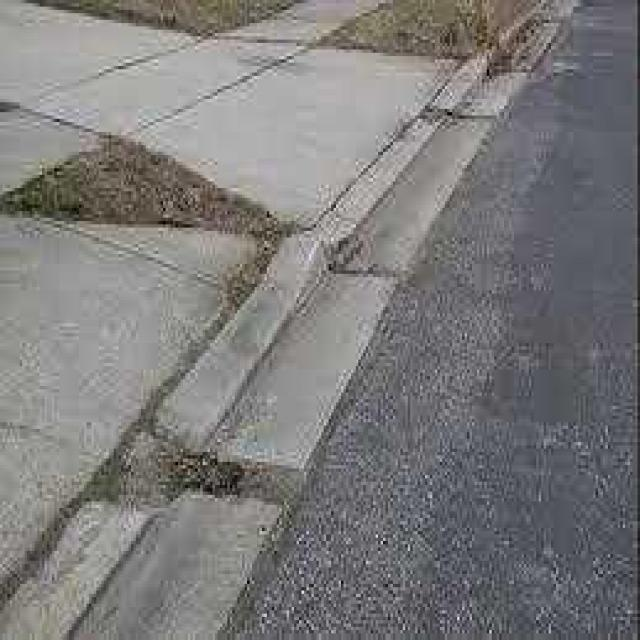curb: (181, 228, 350, 640), (28, 418, 190, 640), (410, 1, 573, 143), (315, 153, 446, 276)
